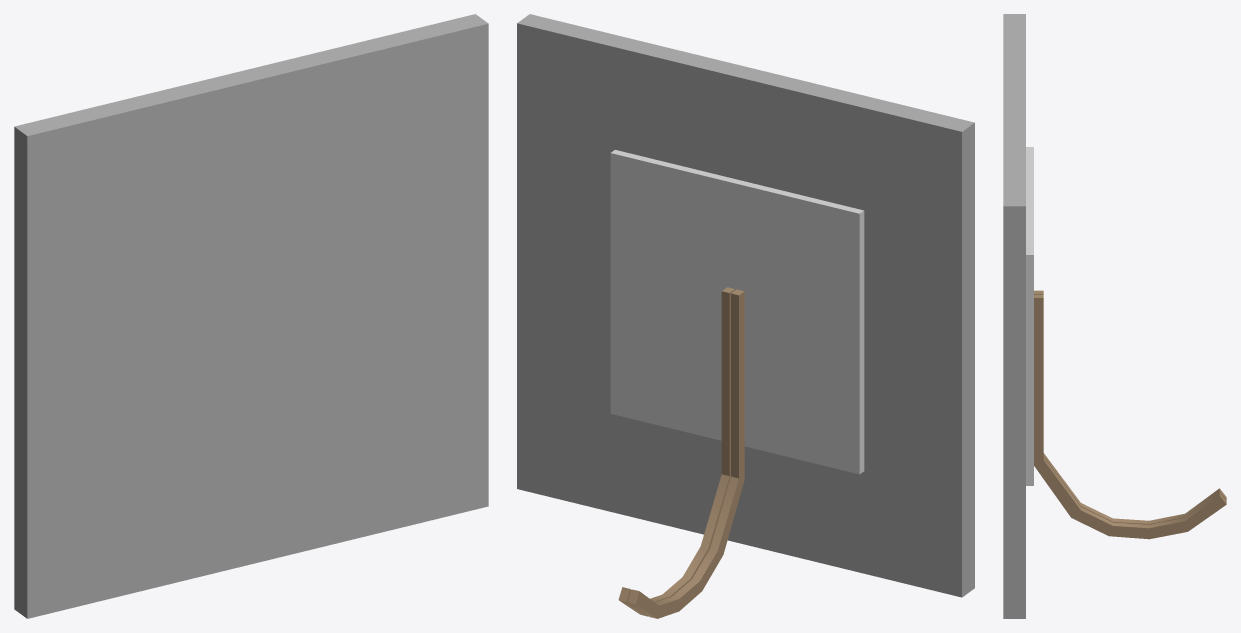
File: Hook.fbx
The picture shows the model from 3 angles, left to right: view 1: azimuth 30°, elevation 25°; view 2: azimuth 150°, elevation 25°; view 3: azimuth 270°, elevation 25°; orthographic projection. The views are drawn at different scales.
Parts seen in each view (by area): view 1: Hooking.001; view 2: Hooking.001; view 3: Hooking.001.
Boxes of the visible parts, <box> form: Hooking.001: <box>14,14,488,618</box>; Hooking.001: <box>517,14,974,618</box>; Hooking.001: <box>1003,14,1226,618</box>.
Bounding box in the file's own units: 61.76 × 63.72 × 30.3.
